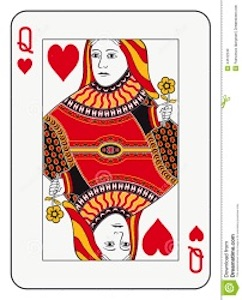QueenOfHearts: (8, 7, 215, 292)
